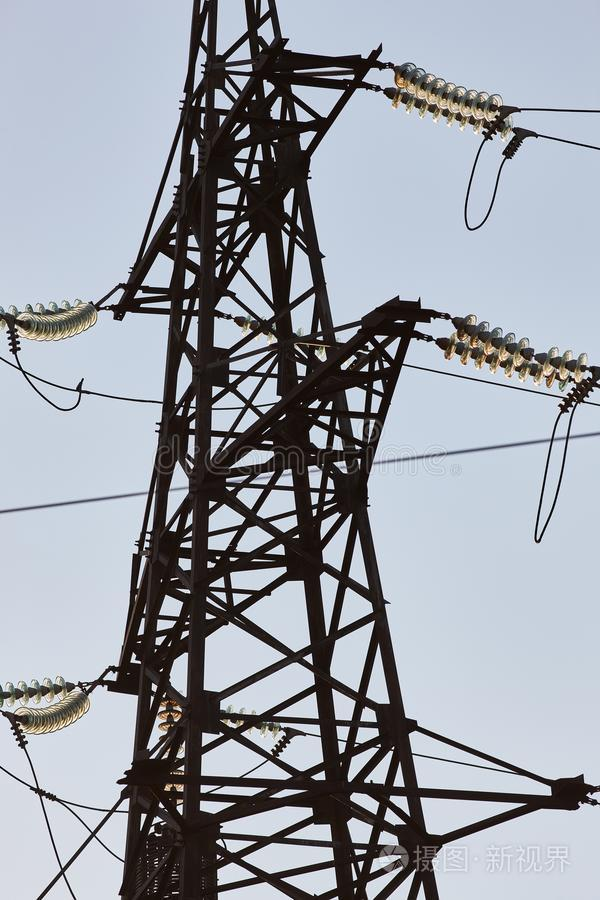insulator: (446, 313, 586, 391), (393, 62, 516, 137), (1, 671, 93, 733), (1, 299, 102, 344), (156, 695, 185, 805), (221, 704, 284, 737)
